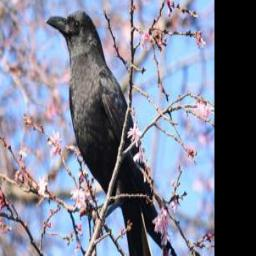Crow: (46, 6, 180, 256)
